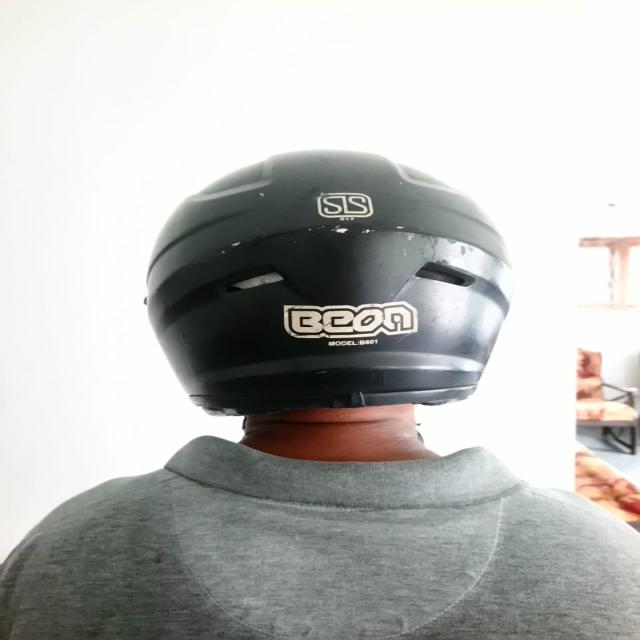With Helmet: (142, 149, 514, 416)
